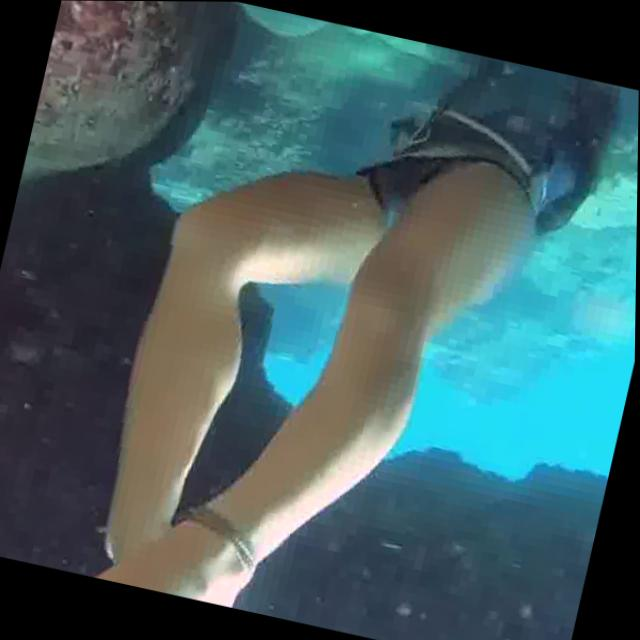human: (54, 0, 640, 640)
